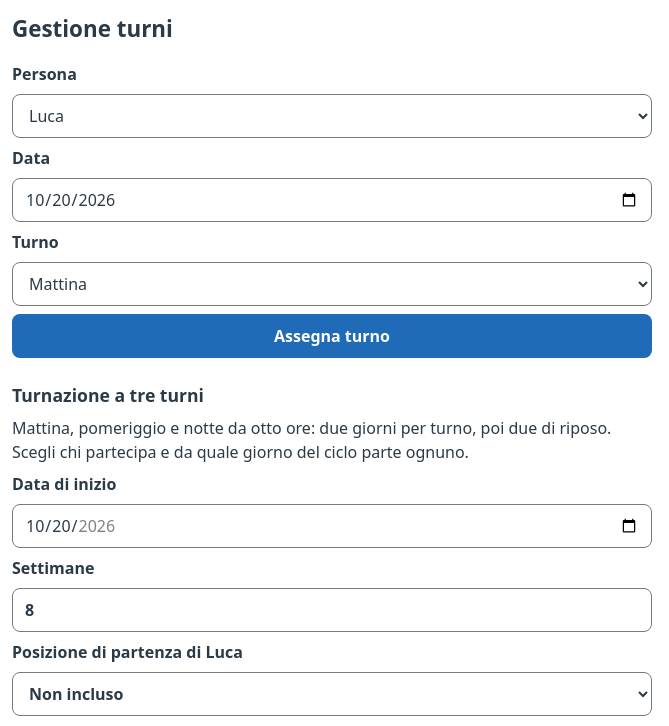
Scenario: does not assign a second shift on a day that member already has one
The image size is (669, 726).
Select "Luca" in the dropdown labelled "Persona" at (332, 116), box x1=12 y1=94 x2=652 y2=138
Type "2026-10-21" into the date field labelled "Data" at (332, 200), box x1=12 y1=178 x2=652 y2=222
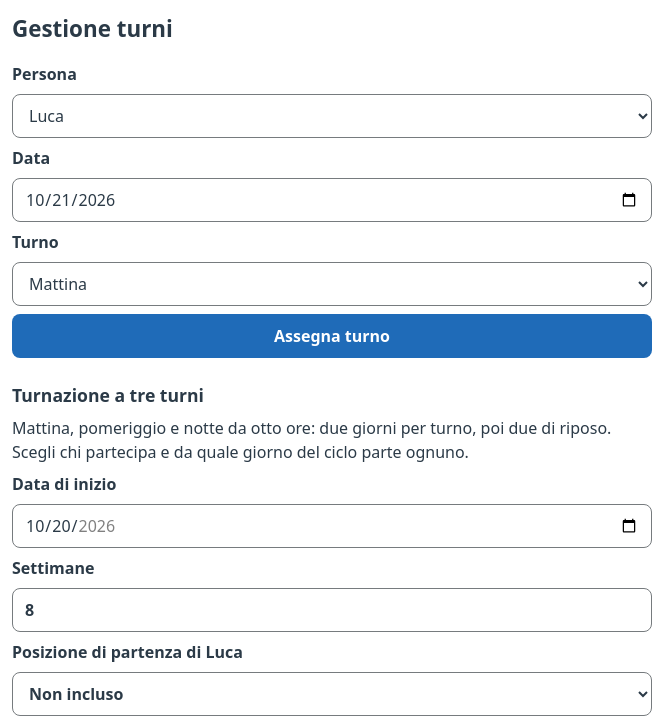
Click the button "Assegna turno" at (332, 336), box x1=12 y1=314 x2=652 y2=358
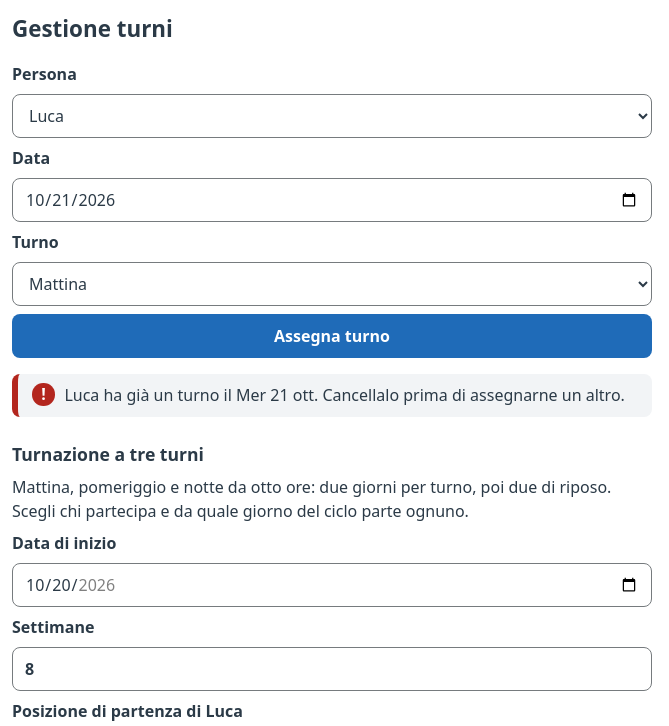
Check: the message shows "Luca ha già un turno", box x1=64 y1=384 x2=625 y2=406
